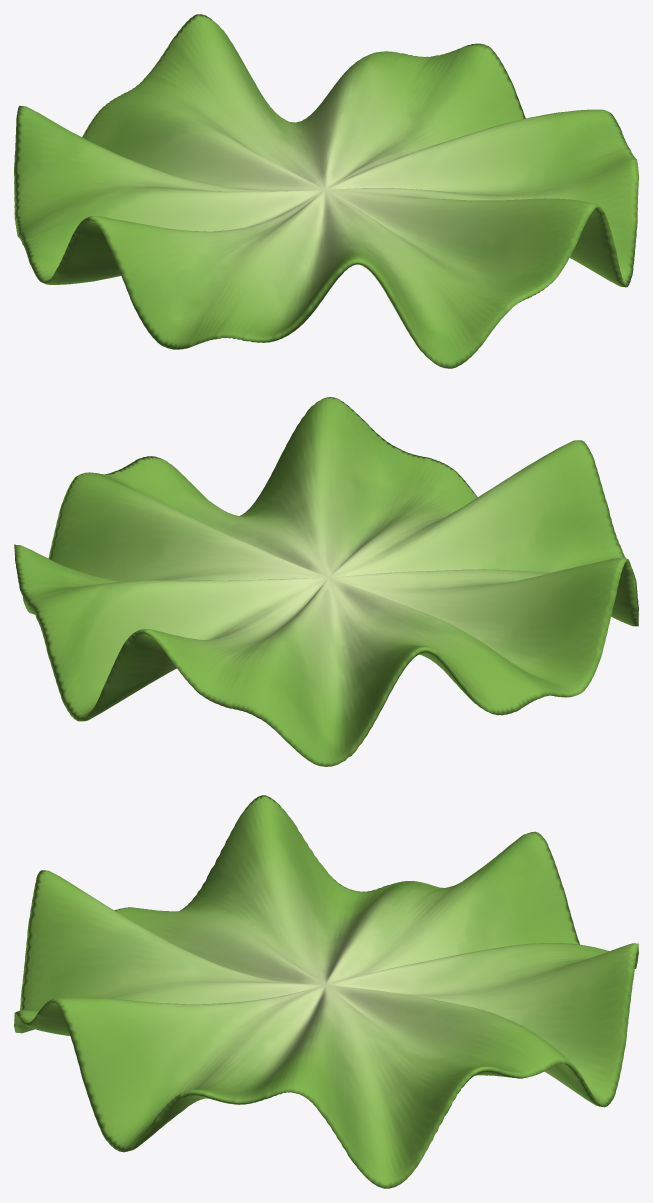
The model's file is lettuce.glb.
3 renders of one model, top to bottom at view 1: azimuth 30°, elevation 25°; view 2: azimuth 150°, elevation 25°; view 3: azimuth 270°, elevation 25°, orthographic.
Visible parts, largest first — view 1: lettuce; view 2: lettuce; view 3: lettuce.
Part boxes in pixels (box(x1,y1,x2,y2)): lettuce: box(14, 14, 638, 368); lettuce: box(14, 397, 638, 766); lettuce: box(14, 795, 638, 1188).
Bounding box in the file's own units: 1.11 × 0.2663 × 1.11.
Materials: 1 (1 with a texture image).
